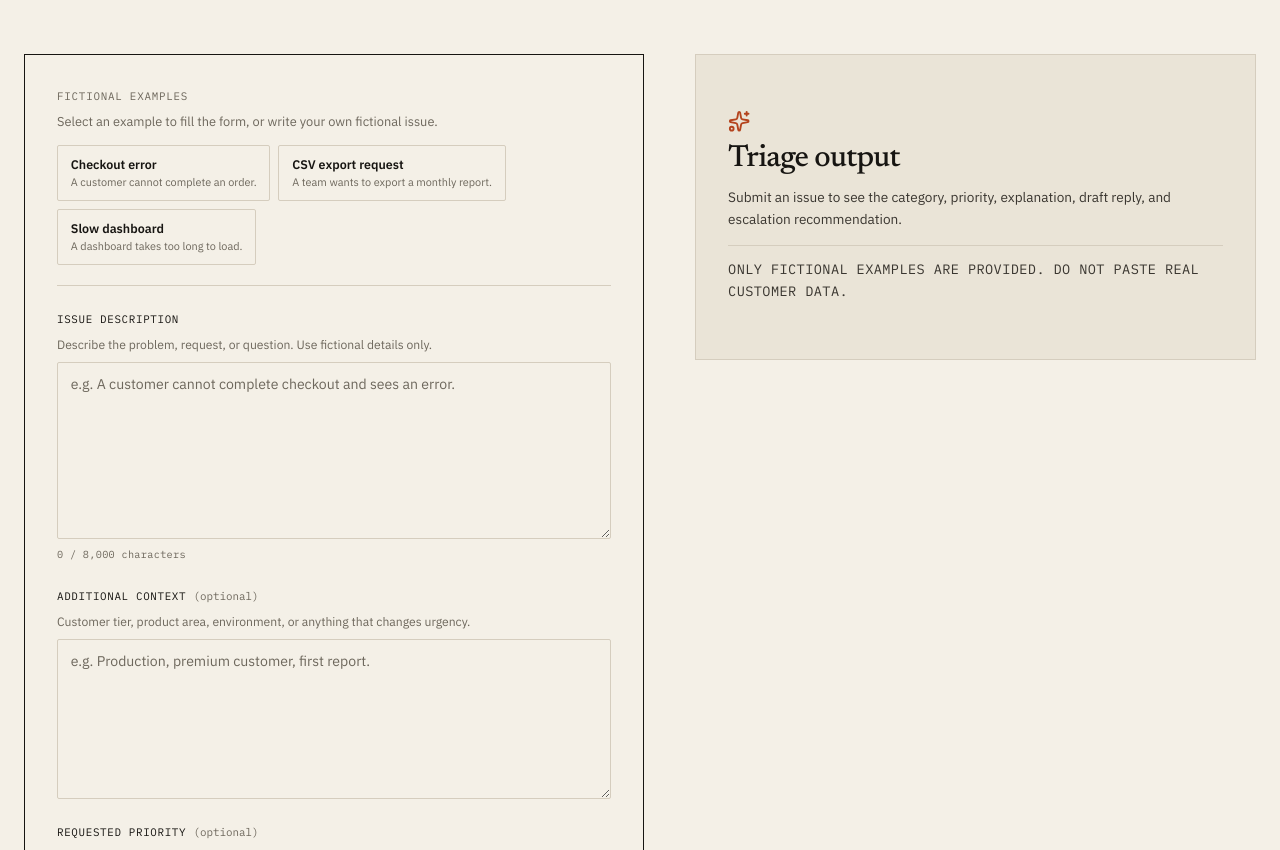
Test case: TicketTriageSection › shows a network error when the API cannot be reached
The image size is (1280, 850).
(page scrolled)
Type "The checkout page fails for a customer." into the text box with id "triage-ticket-text" at (334, 450), box [57, 362, 611, 539]
(page scrolled)
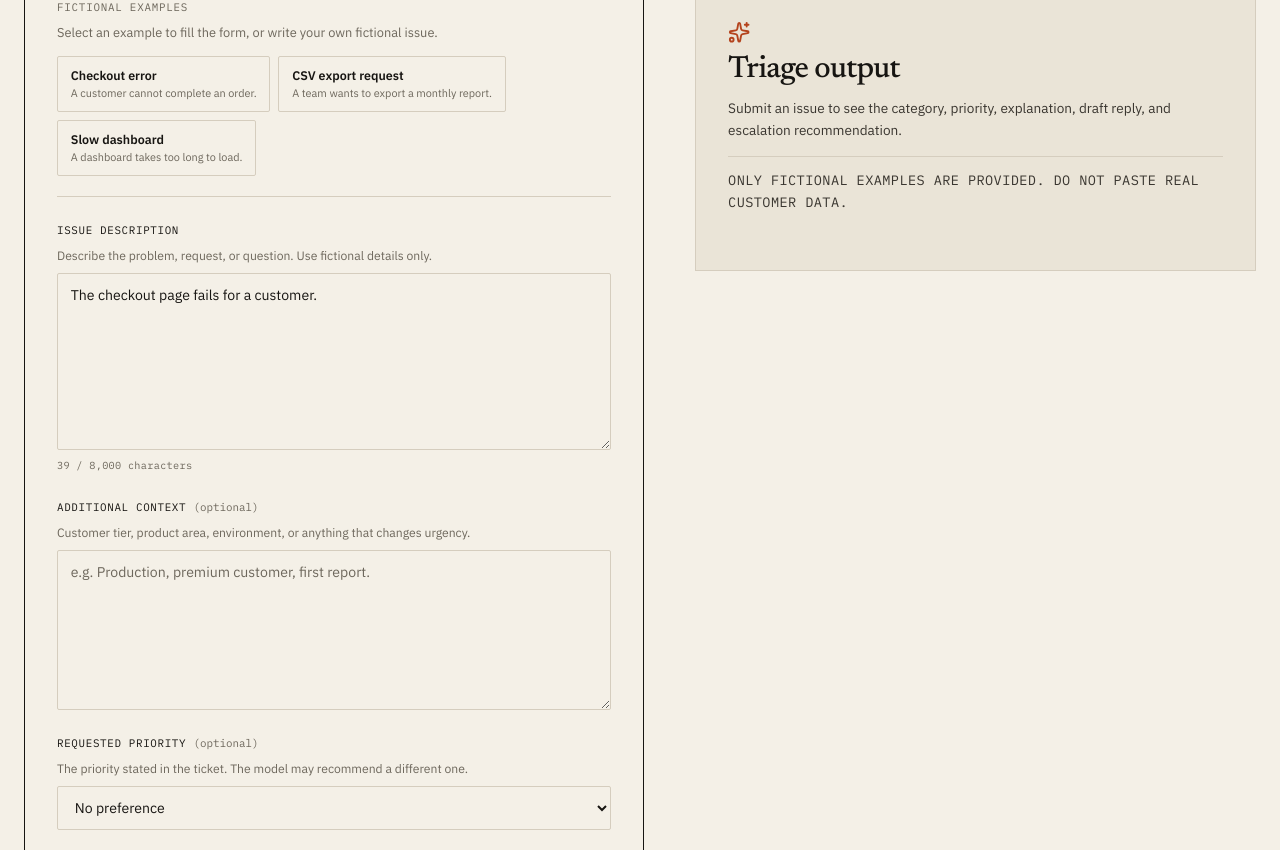
Submit the form
(page scrolled)
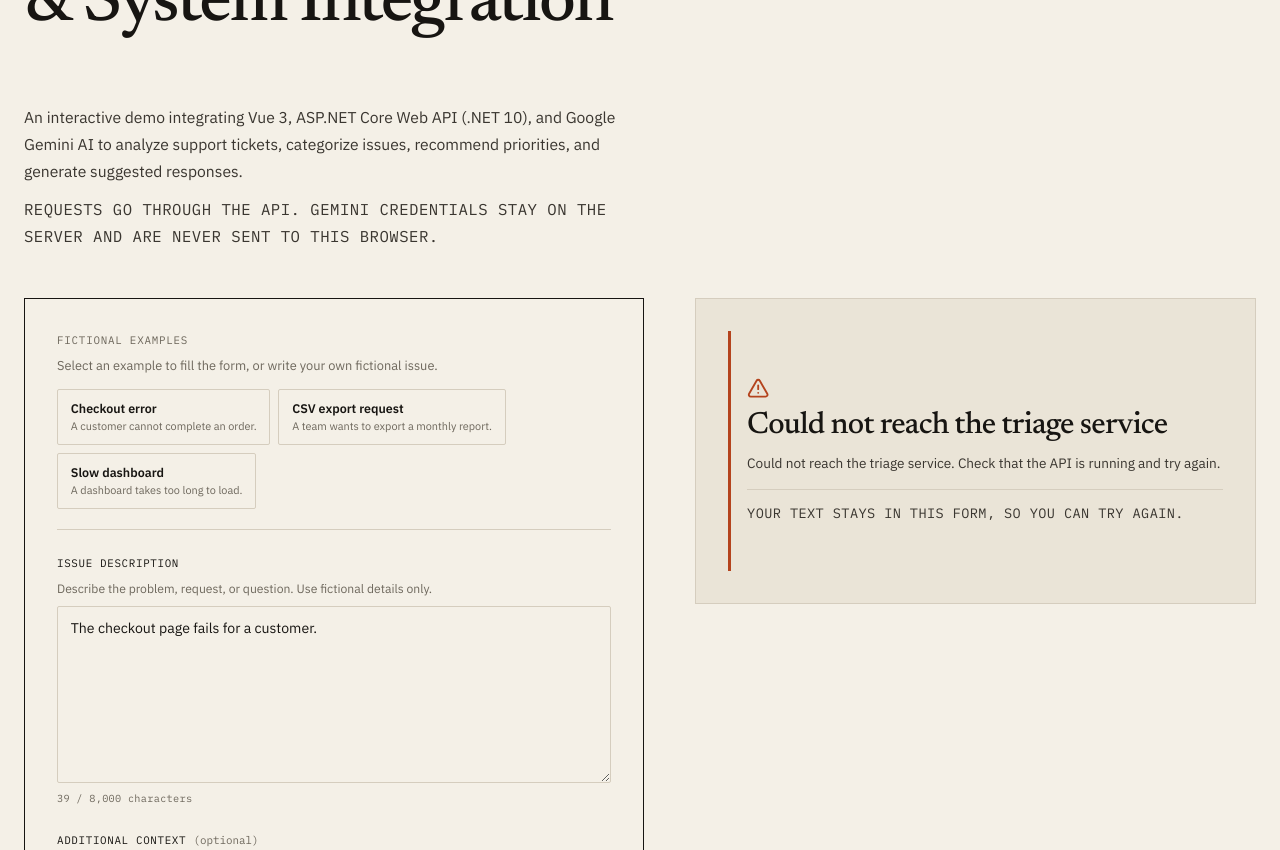
Expected: the message with class "triage__state--error" shows "Could not reach the triage service", [747, 410, 1167, 441]
